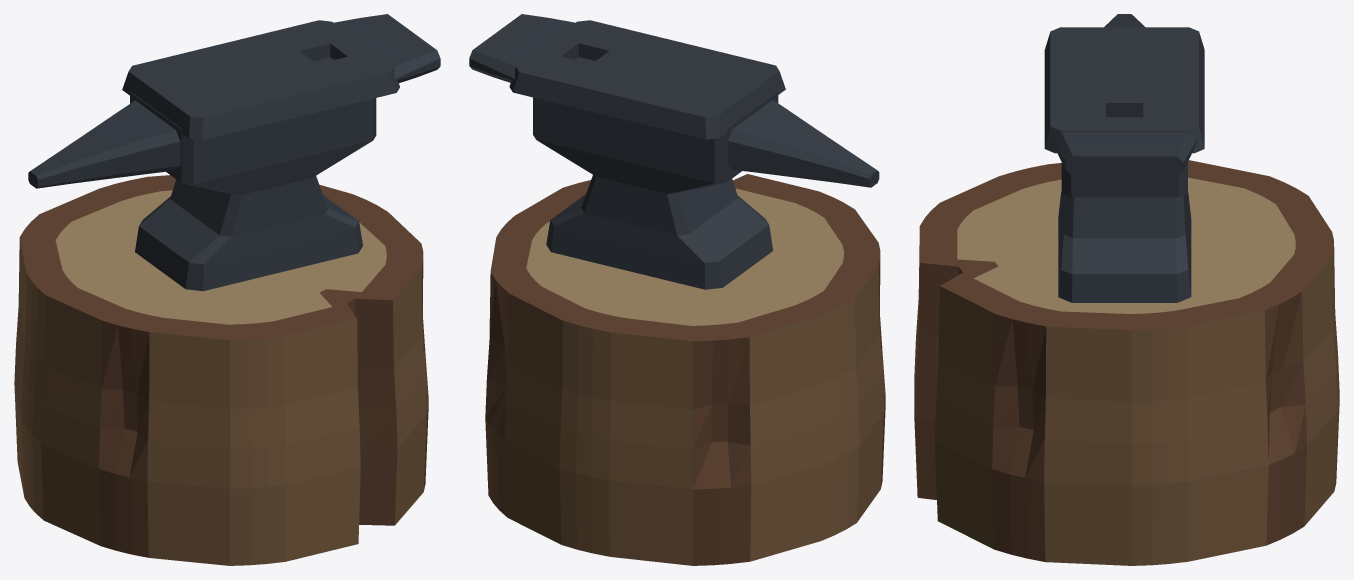
The model's file is anvil-1286cb.glb.
3 renders of one model, left to right at view 1: azimuth 30°, elevation 25°; view 2: azimuth 150°, elevation 25°; view 3: azimuth 270°, elevation 25°, orthographic. The views are drawn at different scales.
Parts seen in each view (by area): view 1: stump, anvil-iron; view 2: stump, anvil-iron; view 3: stump, anvil-iron.
Boxes of the visible parts, <box> form: stump: <box>14,175,428,565</box>; anvil-iron: <box>28,14,440,291</box>; stump: <box>485,174,885,565</box>; anvil-iron: <box>469,14,879,289</box>; stump: <box>914,160,1339,565</box>; anvil-iron: <box>1044,14,1204,302</box>.
Bounding box in the file's own units: 0.812 × 0.822 × 0.7553.
